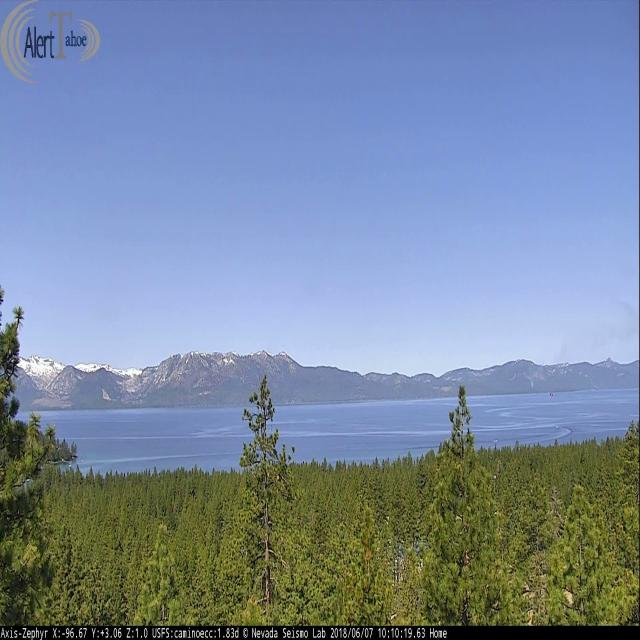smoke: (529, 282, 635, 391)
